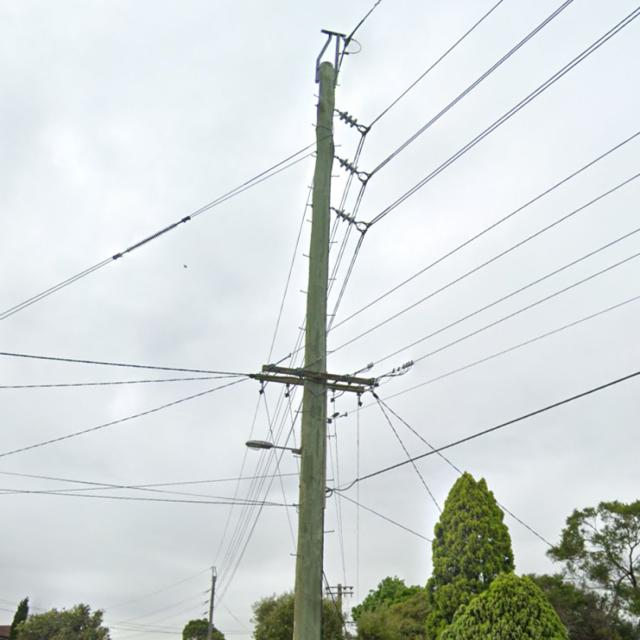HV-transmission: (248, 29, 372, 233), (202, 565, 218, 617)
crossarm: (261, 363, 375, 385), (248, 372, 363, 393), (324, 584, 351, 588), (326, 591, 352, 594)
streetlight: (243, 438, 300, 454)
timber-pole: (293, 61, 336, 631), (206, 575, 215, 639)
